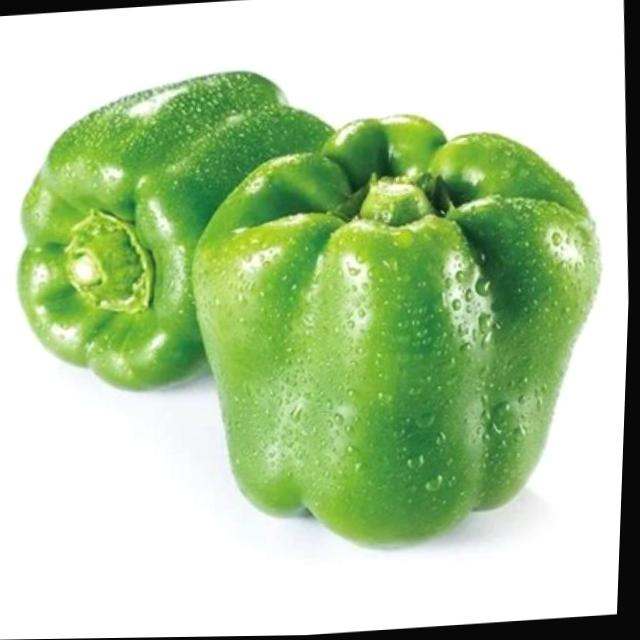Capsicum: (178, 99, 622, 562), (7, 62, 353, 399)
